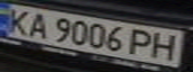0: (66, 18, 90, 47), (87, 20, 109, 51)
6: (106, 25, 130, 53)
9: (48, 15, 72, 44)
A: (21, 10, 54, 39)
H: (148, 30, 184, 61)
K: (0, 6, 36, 35)
P: (127, 27, 160, 56)
